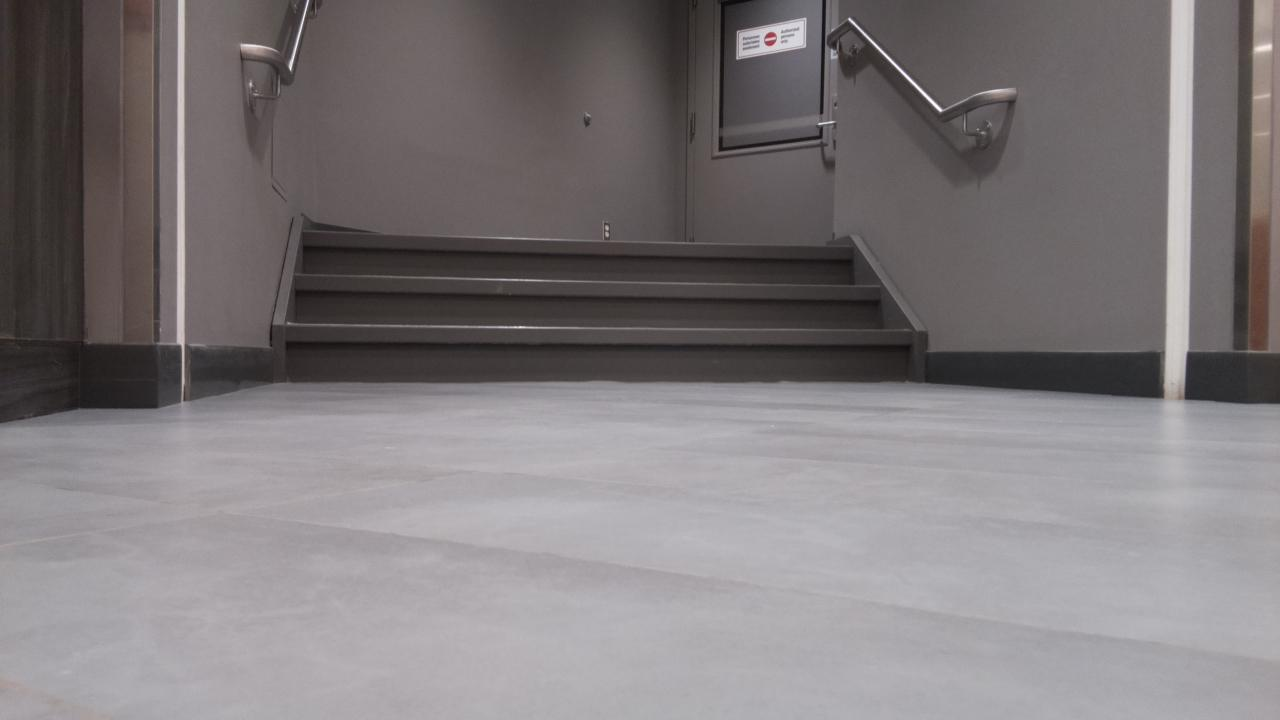door: (695, 0, 838, 243)
sign: (737, 18, 805, 59)
stair: (286, 231, 912, 381)
